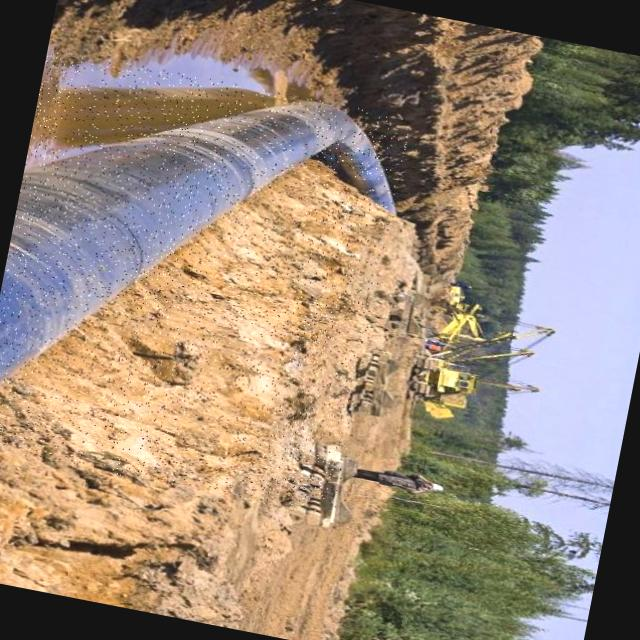gas: (0, 104, 390, 379)
